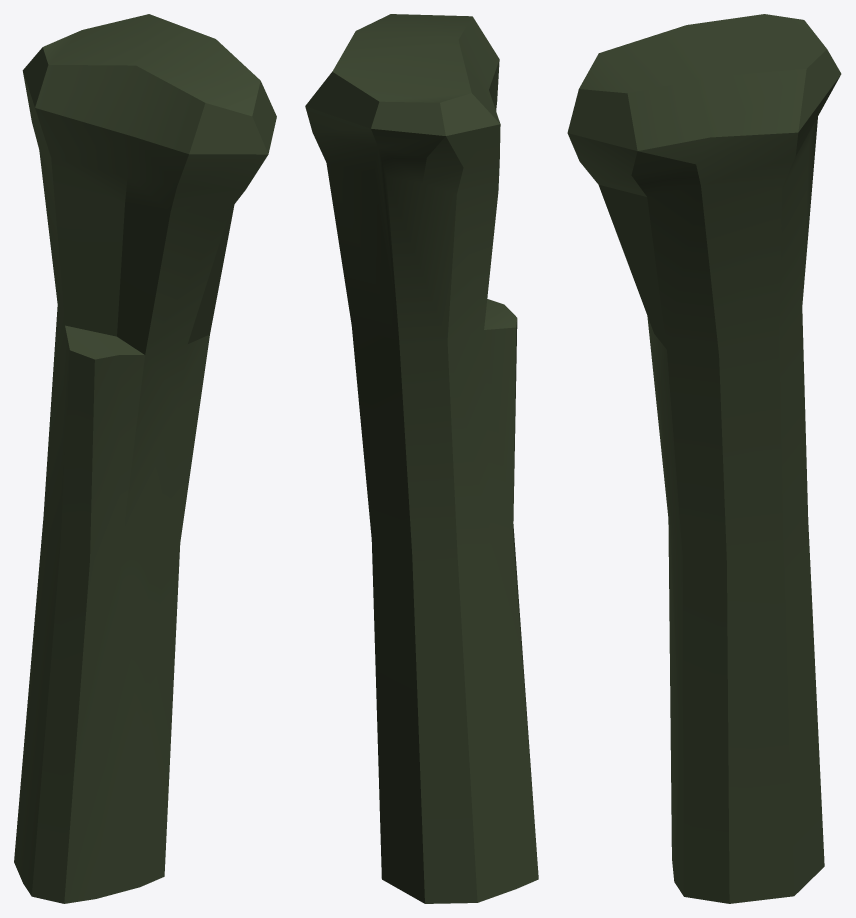
Rendered from EA_Pin_01a.glb.
3 views of the same model, side by side, from view 1: azimuth 30°, elevation 25°; view 2: azimuth 150°, elevation 25°; view 3: azimuth 270°, elevation 25° (orthographic). The views are drawn at different scales.
Visible parts, largest first — view 1: EA_Pin_01a; view 2: EA_Pin_01a; view 3: EA_Pin_01a.
Boxes of the visible parts, left/top/right/bottom form: EA_Pin_01a: left=14, top=14, right=276, bottom=903; EA_Pin_01a: left=305, top=14, right=538, bottom=903; EA_Pin_01a: left=567, top=14, right=841, bottom=903.
Bounding box in the file's own units: 0.2713 × 1.01 × 0.2916.
Materials: 1 (1 with a texture image).
